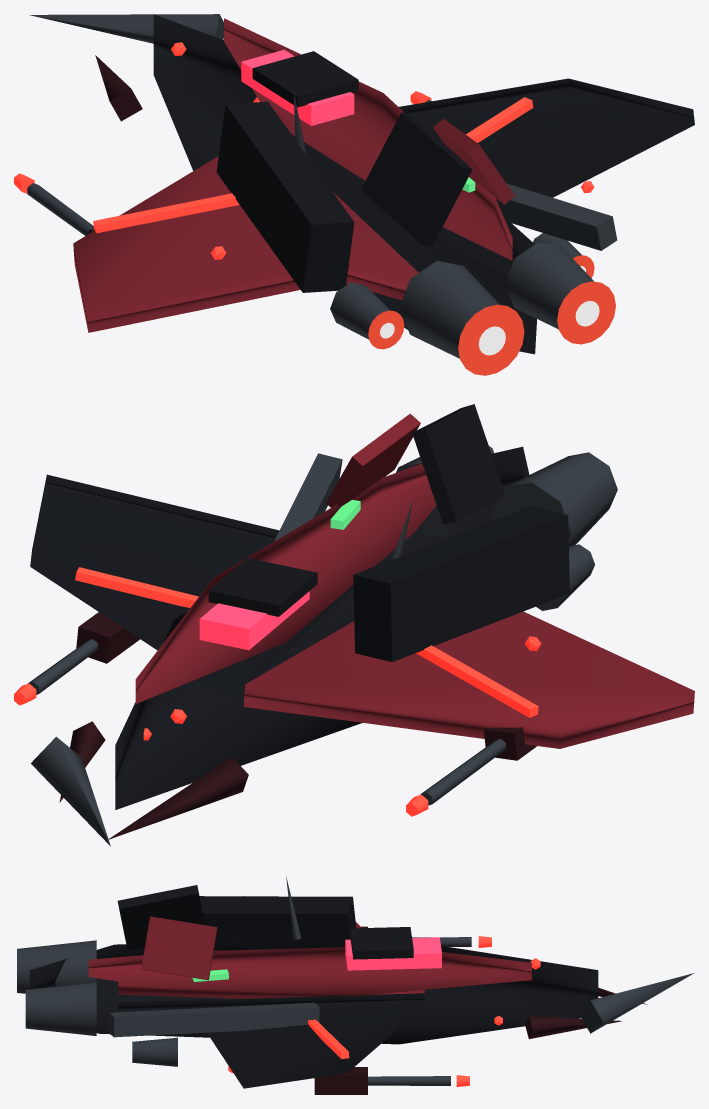
Rendered from pirate-raider.glb.
The picture shows the model from 3 angles, top to bottom: view 1: azimuth 30°, elevation 25°; view 2: azimuth 150°, elevation 25°; view 3: azimuth 270°, elevation 25°; orthographic projection. The views are drawn at different scales.
Parts seen in each view (by area): view 1: scarred_left_wing, knife_right_wing, asymmetric_left_armor_slab, jagged_arrowhead_core, offset_red_keel_plate, dorsal_black_fin_left, left_main_engine_bell, right_main_engine_bell, exposed_right_frame_strut, canopy_brow_armor, left_main_engine_ember, hooked_nose_spike (+10 smaller); view 2: scarred_left_wing, knife_right_wing, asymmetric_left_armor_slab, jagged_arrowhead_core, offset_red_keel_plate, dorsal_black_fin_left, left_main_engine_bell, canopy_brow_armor, dorsal_red_fin_right, hooked_nose_spike, left_forward_hook, slit_canopy (+10 smaller); view 3: jagged_arrowhead_core, offset_red_keel_plate, knife_right_wing, asymmetric_left_armor_slab, exposed_right_frame_strut, dorsal_red_fin_right, right_main_engine_bell, dorsal_black_fin_left, left_main_engine_bell, hooked_nose_spike, canopy_brow_armor, scarred_left_wing (+6 smaller).
Part boxes in pixels (box(x1,y1,x2,y2)): scarred_left_wing: box(73, 156, 418, 332); knife_right_wing: box(291, 78, 694, 277); asymmetric_left_armor_slab: box(216, 101, 354, 292); jagged_arrowhead_core: box(153, 14, 536, 354); offset_red_keel_plate: box(224, 18, 512, 260); dorsal_black_fin_left: box(361, 112, 472, 246); left_main_engine_bell: box(399, 261, 499, 358); right_main_engine_bell: box(504, 242, 593, 329); exposed_right_frame_strut: box(496, 183, 617, 250); canopy_brow_armor: box(252, 51, 358, 107); left_main_engine_ember: box(458, 304, 524, 375); hooked_nose_spike: box(29, 14, 223, 43); scarred_left_wing: box(243, 611, 694, 748); knife_right_wing: box(30, 474, 386, 700); asymmetric_left_armor_slab: box(353, 506, 569, 661); jagged_arrowhead_core: box(115, 446, 536, 809); offset_red_keel_plate: box(135, 463, 436, 703); dorsal_black_fin_left: box(412, 404, 505, 524); left_main_engine_bell: box(491, 452, 617, 546); canopy_brow_armor: box(208, 558, 317, 616); dorsal_red_fin_right: box(326, 413, 420, 509); hooked_nose_spike: box(31, 736, 110, 846); left_forward_hook: box(108, 757, 248, 839); slit_canopy: box(199, 591, 309, 650); jagged_arrowhead_core: box(29, 940, 598, 1044); offset_red_keel_plate: box(88, 947, 531, 995); knife_right_wing: box(118, 993, 424, 1088); asymmetric_left_armor_slab: box(199, 896, 356, 949); exposed_right_frame_strut: box(108, 1002, 319, 1037); dorsal_red_fin_right: box(141, 916, 217, 980); right_main_engine_bell: box(25, 982, 96, 1035); dorsal_black_fin_left: box(117, 885, 205, 950); left_main_engine_bell: box(17, 940, 96, 993); hooked_nose_spike: box(577, 973, 694, 1033); canopy_brow_armor: box(350, 927, 413, 959); scarred_left_wing: box(118, 922, 424, 998).
Size of the model in its own units: 7.09 by 2.01 by 9.22.
